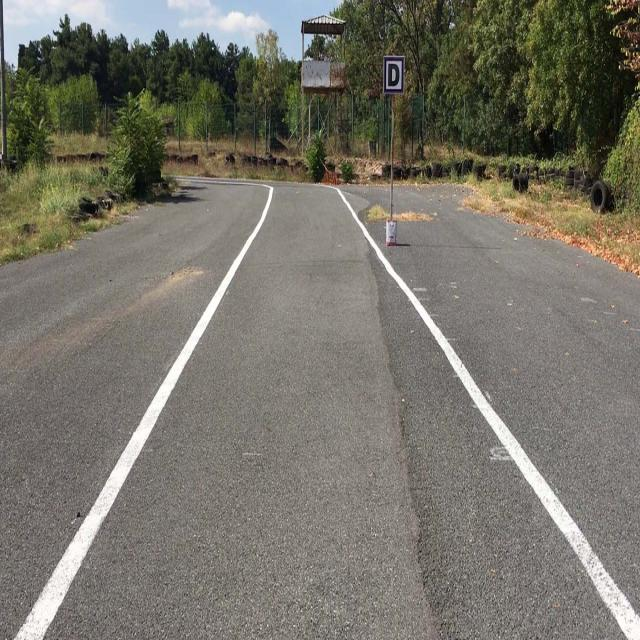durak: (384, 57, 403, 91)
